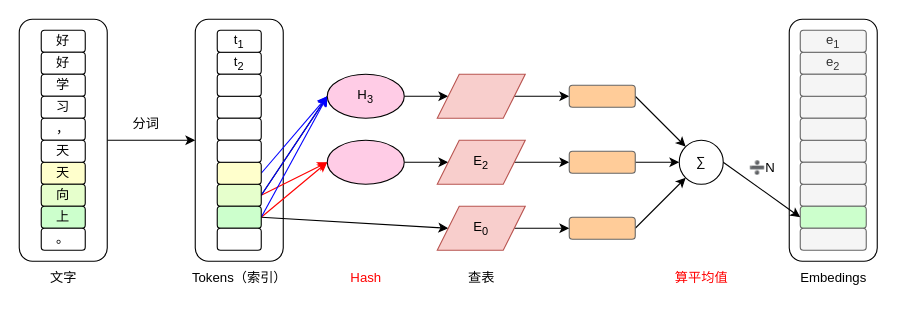
The diagram is 897 pixels wide and 314 high, and some of its shapes have lost their labels. Here are the shapes that lost their labels. From the top down, the box of each, then its label:
(436, 73, 525, 118): E 3
(568, 84, 635, 107): e i '''
(216, 161, 261, 184): t i-2
(326, 139, 404, 184): H 2
(568, 150, 635, 173): e i ''
(216, 183, 261, 206): t i-1
(216, 205, 261, 228): t i
(568, 216, 635, 239): e i '
(799, 205, 866, 228): e i
